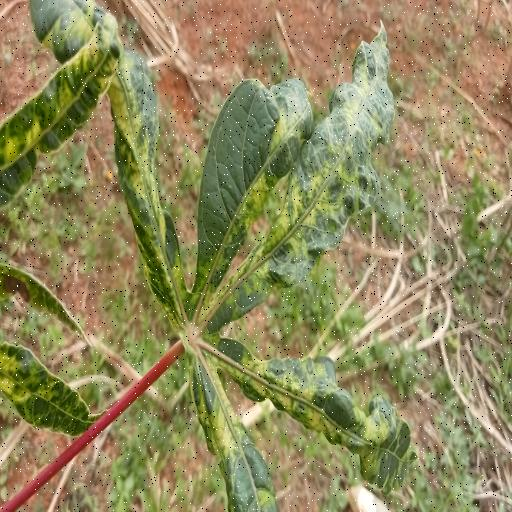Cassava_Mosaic: (29, 0, 420, 512)
